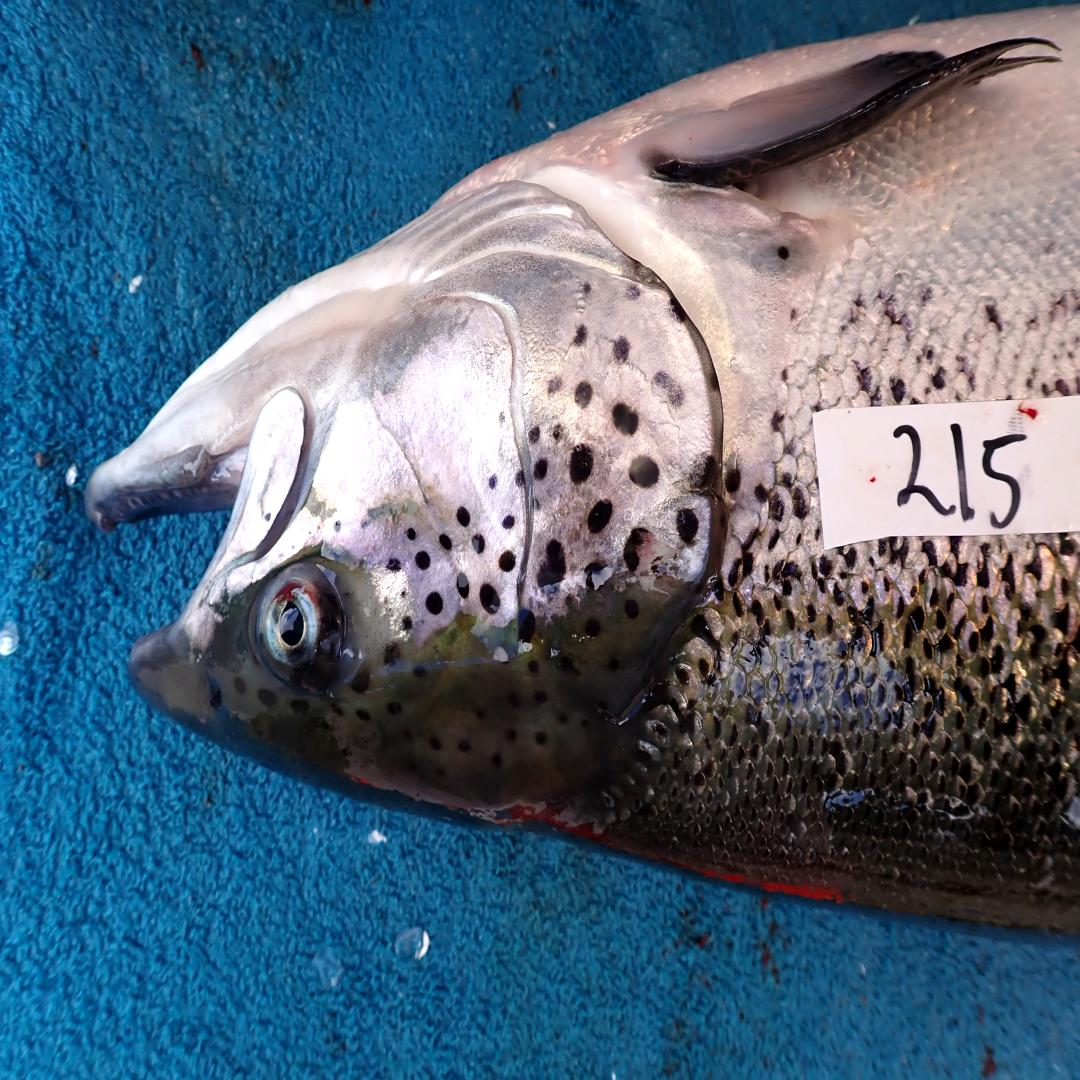roi: (304, 172, 724, 637)
